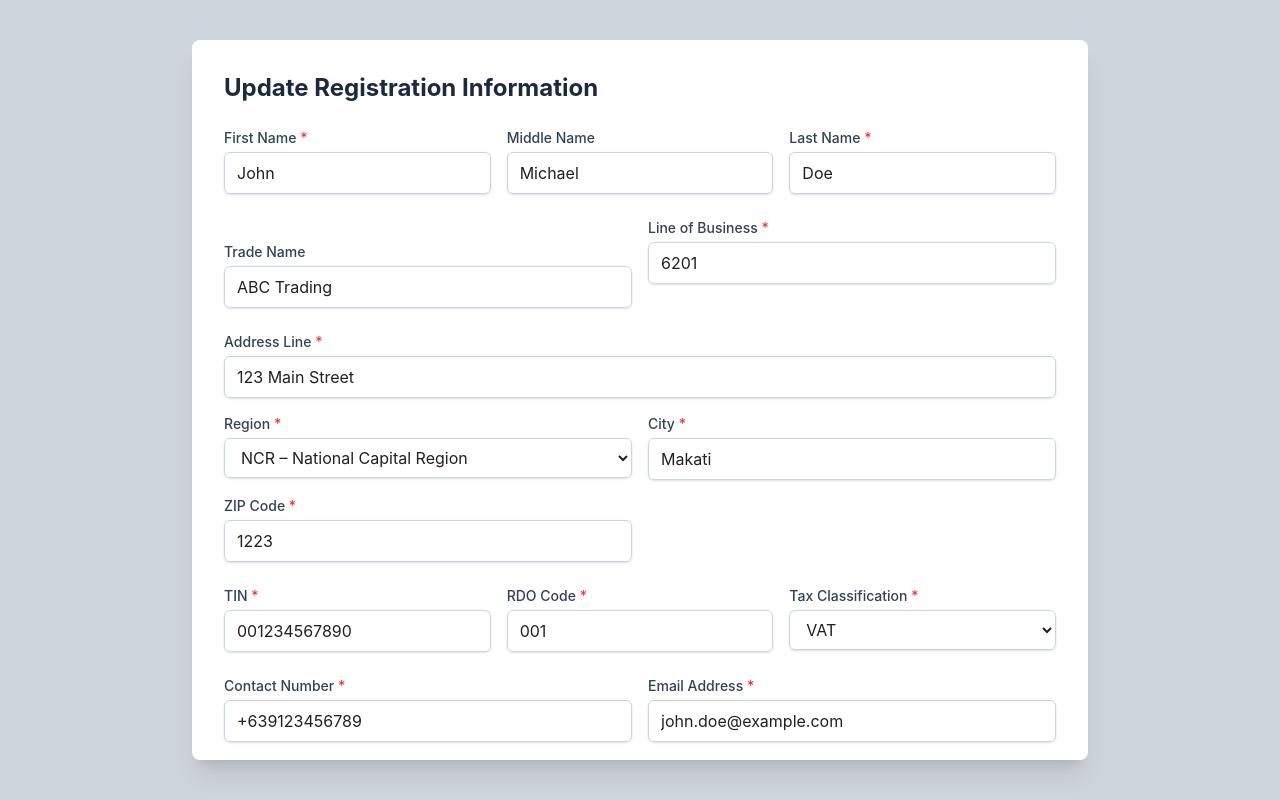
Test: UpdateOrganizationRegistrationModal › Form Validation › should validate required fields
Clear the field showing "John" below "First Name": (357, 173) [224, 152, 491, 194]
(page scrolled)
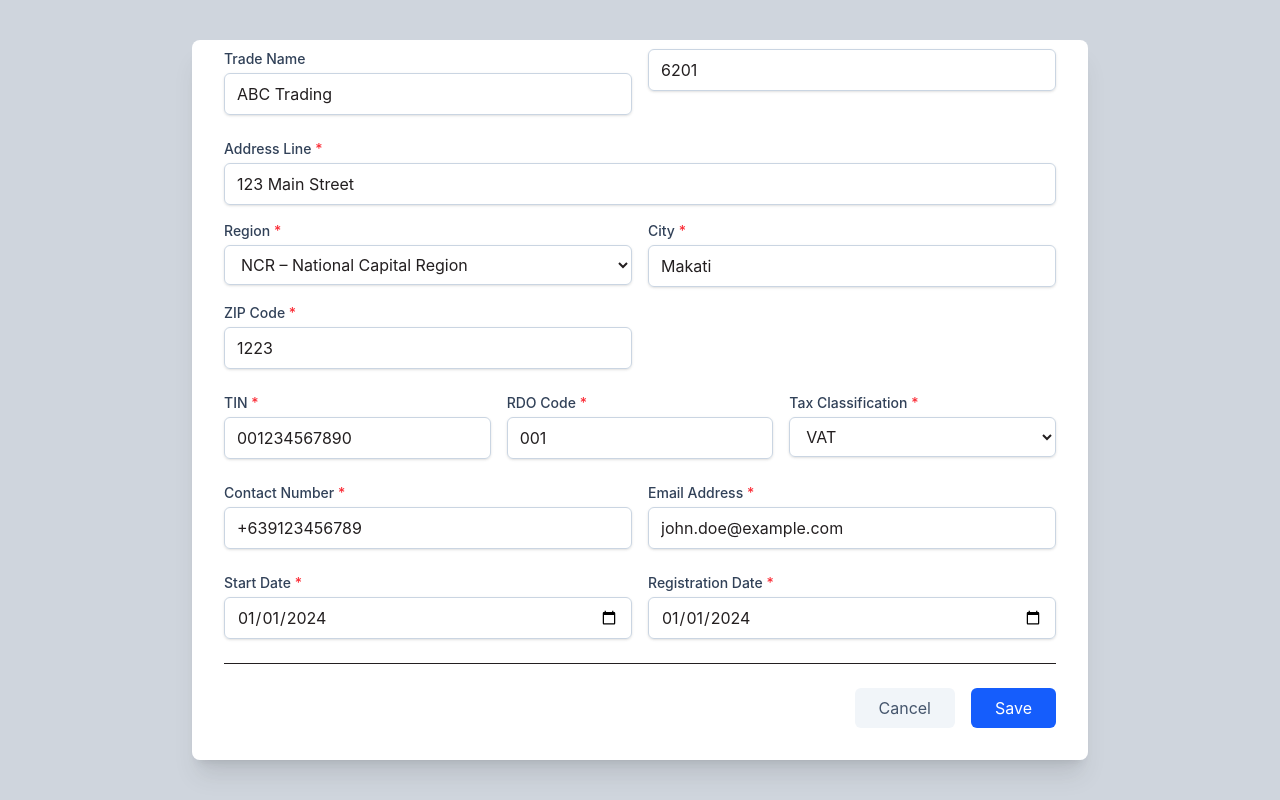
Click the button "Save": (1014, 708) [971, 688, 1056, 728]
(page scrolled)
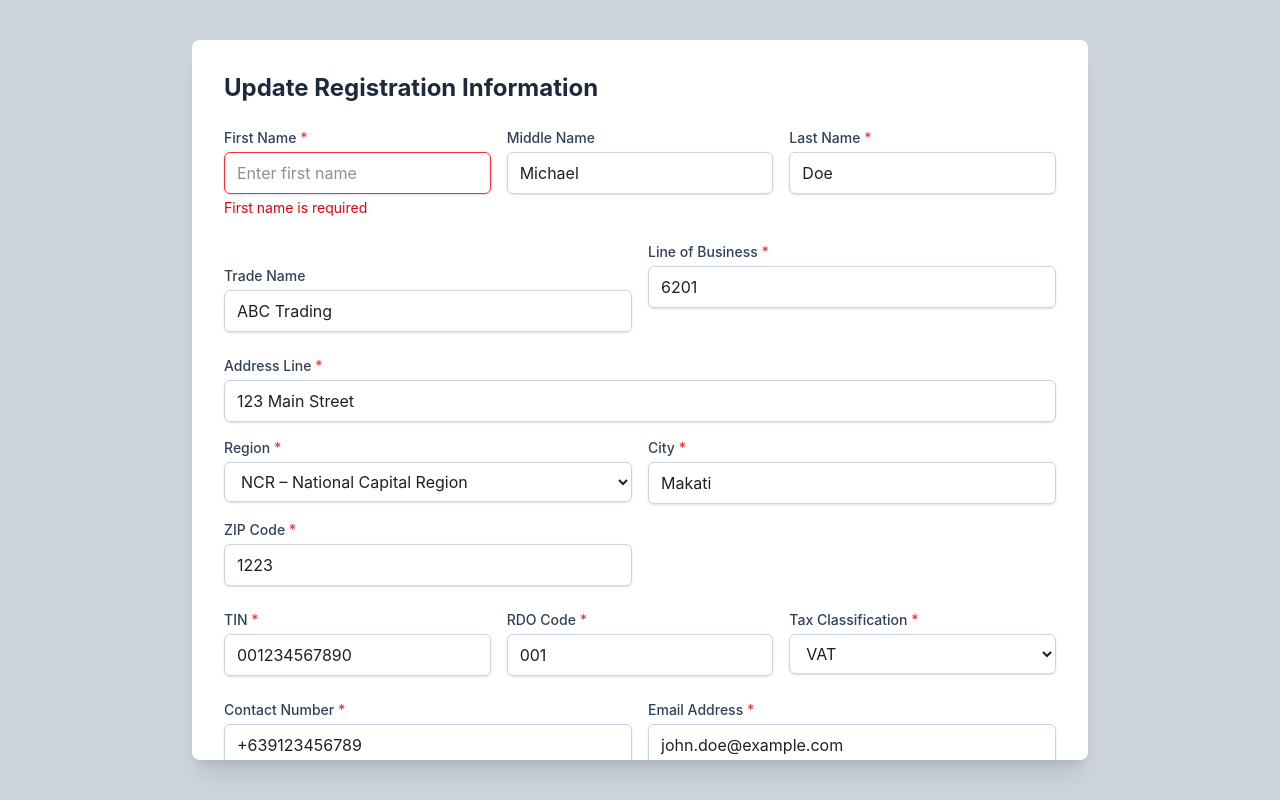
Check: the text "First name is required" is shown, box [224, 199, 367, 216]
